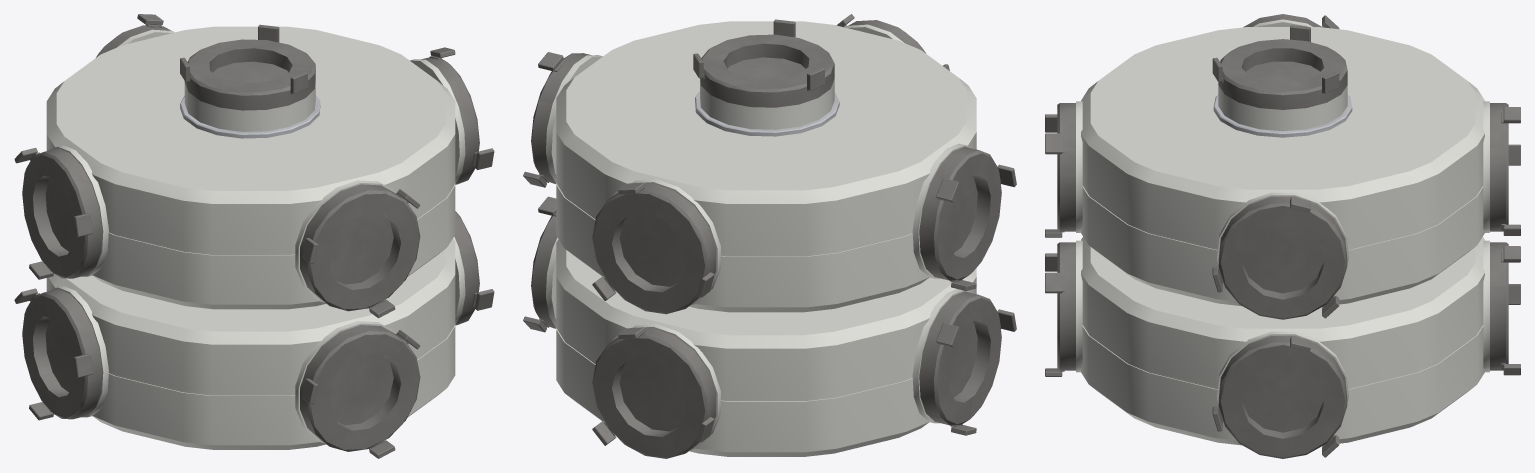
File: ax_grav_02_counter_bearing.glb
The picture shows the model from 3 angles, left to right: view 1: azimuth 30°, elevation 25°; view 2: azimuth 150°, elevation 25°; view 3: azimuth 270°, elevation 25°; orthographic projection. The views are drawn at different scales.
Parts seen in each view (by area): view 1: rotor_drum_2, rotor_drum_1, spoke_collars, spoke_port_covers, port_top, spoke_port_pedestals, spoke_collar_petals, transfer_tunnel, hatch_door_2, bearing_race_2, port_top_petals; view 2: rotor_drum_2, rotor_drum_1, spoke_collars, spoke_port_covers, port_top, spoke_port_pedestals, spoke_collar_petals, transfer_tunnel, hatch_door_2, bearing_race_2, port_top_petals; view 3: rotor_drum_2, rotor_drum_1, spoke_collars, spoke_port_covers, port_top, spoke_port_pedestals, spoke_collar_petals, transfer_tunnel, hatch_door_2, bearing_race_2, port_top_petals.
Boxes of the visible parts, x1=… form: rotor_drum_2: x1=46, y1=26, x2=455, y2=309; rotor_drum_1: x1=46, y1=239, x2=455, y2=449; spoke_collars: x1=22, y1=25, x2=479, y2=451; spoke_port_covers: x1=45, y1=177, x2=393, y2=425; port_top: x1=184, y1=39, x2=315, y2=110; spoke_port_pedestals: x1=47, y1=29, x2=465, y2=443; spoke_collar_petals: x1=14, y1=14, x2=494, y2=458; transfer_tunnel: x1=184, y1=81, x2=315, y2=131; hatch_door_2: x1=213, y1=61, x2=288, y2=83; bearing_race_2: x1=180, y1=95, x2=320, y2=138; port_top_petals: x1=180, y1=24, x2=307, y2=94; rotor_drum_2: x1=556, y1=21, x2=976, y2=312; rotor_drum_1: x1=556, y1=239, x2=976, y2=456; spoke_collars: x1=531, y1=20, x2=1001, y2=458; spoke_port_covers: x1=619, y1=176, x2=977, y2=431; port_top: x1=700, y1=34, x2=834, y2=107; spoke_port_pedestals: x1=546, y1=24, x2=975, y2=449; spoke_collar_petals: x1=523, y1=14, x2=1016, y2=445; transfer_tunnel: x1=700, y1=78, x2=834, y2=129; hatch_door_2: x1=727, y1=57, x2=805, y2=79; bearing_race_2: x1=695, y1=92, x2=839, y2=136; port_top_petals: x1=693, y1=19, x2=824, y2=91; rotor_drum_2: x1=1081, y1=27, x2=1484, y2=306; rotor_drum_1: x1=1081, y1=237, x2=1484, y2=445; spoke_collars: x1=1057, y1=14, x2=1508, y2=458; spoke_port_covers: x1=1242, y1=225, x2=1323, y2=432; port_top: x1=1218, y1=39, x2=1347, y2=109; spoke_port_pedestals: x1=1076, y1=19, x2=1489, y2=403; spoke_collar_petals: x1=1045, y1=15, x2=1520, y2=457; transfer_tunnel: x1=1218, y1=85, x2=1347, y2=131; hatch_door_2: x1=1245, y1=61, x2=1320, y2=82; bearing_race_2: x1=1213, y1=94, x2=1352, y2=137; port_top_petals: x1=1212, y1=25, x2=1339, y2=93.
Bounding box in the file's own units: 5.89 × 4.97 × 5.89.
3 materials, 2 textured.
